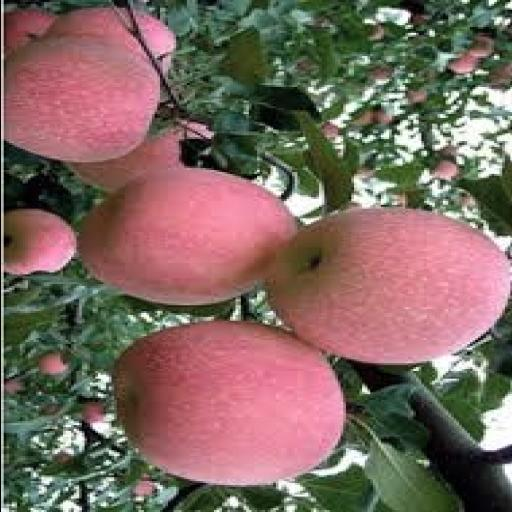apple: (265, 209, 509, 363), (114, 321, 344, 484), (79, 167, 296, 305), (3, 37, 158, 162), (68, 124, 210, 189), (44, 8, 145, 57), (3, 209, 75, 274), (3, 10, 56, 52), (445, 53, 479, 75), (36, 352, 67, 374), (486, 62, 511, 88), (81, 400, 105, 425), (467, 35, 493, 57), (432, 161, 458, 179), (367, 66, 393, 83), (133, 478, 156, 496), (372, 109, 393, 125), (3, 379, 24, 394), (321, 122, 339, 139), (405, 89, 425, 104), (367, 24, 385, 40), (437, 145, 458, 156), (52, 453, 72, 463)
